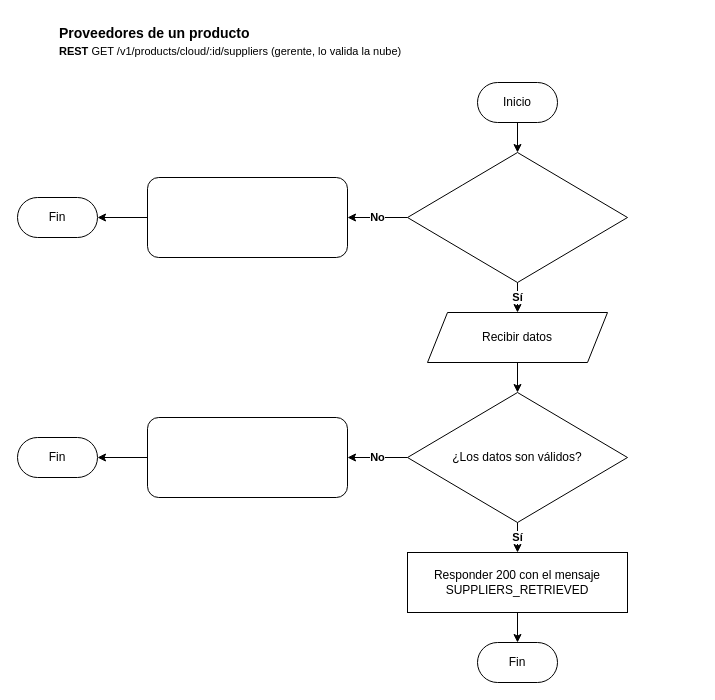
This 715x700 diagram has some shape labels left out. The centre of each missing label's shape, as x and y in pixels:
Datos inválidos (400) ERROR_BAD_REQUEST: (x=247, y=457)
Servidor sin emparejar (409) ERROR_SERVER_NOT_PAIRED: (x=247, y=217)
¿El servidor ya se emparejó alguna vez (pairing_status distinto de unpaired)?: (x=517, y=217)
